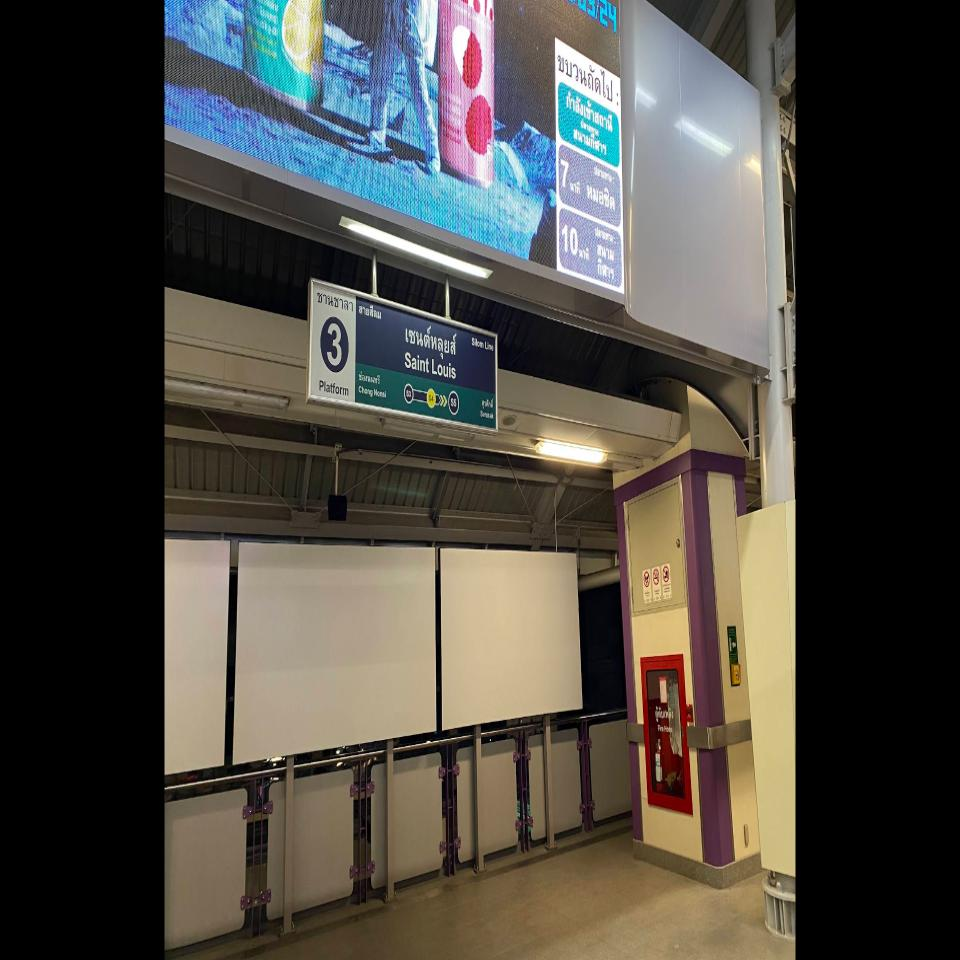signage: (404, 305, 459, 426)
